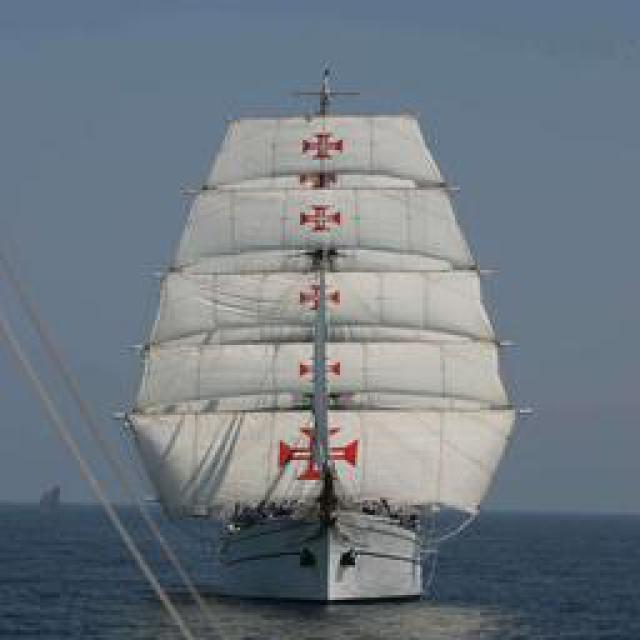Ship: (127, 94, 520, 577)
